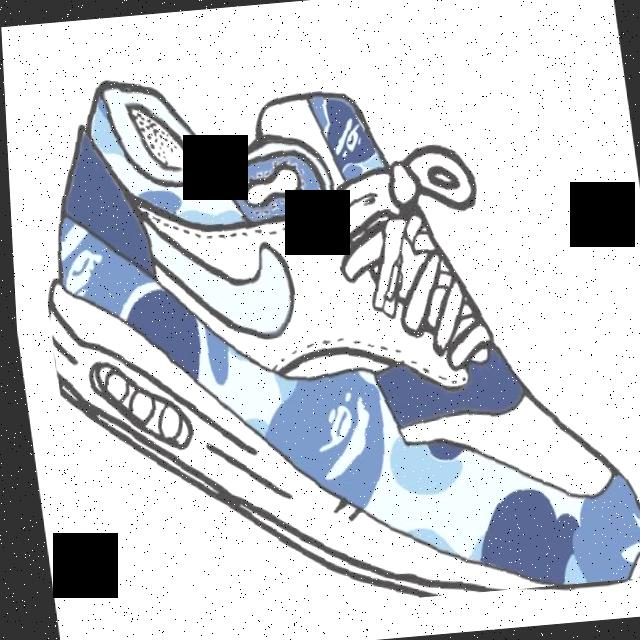shoe: (12, 24, 640, 626)
